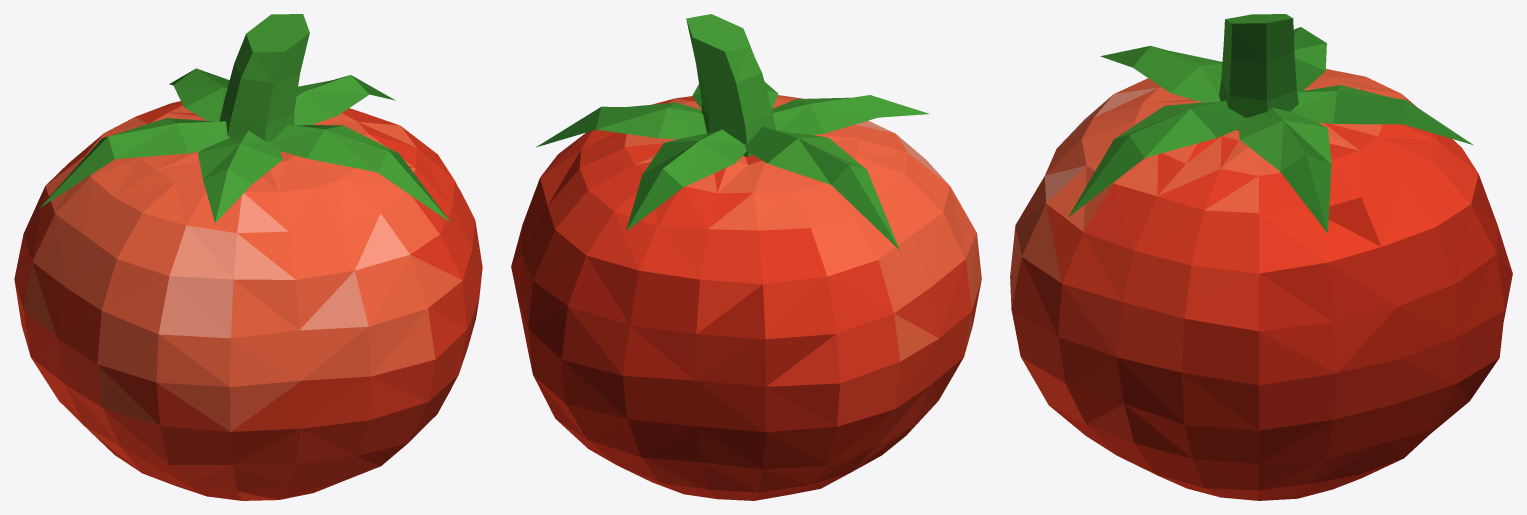
File: FMS_Veg_Tomato_Whole.fbx
3 renders of one model, left to right at view 1: azimuth 30°, elevation 25°; view 2: azimuth 150°, elevation 25°; view 3: azimuth 270°, elevation 25°, orthographic. The views are drawn at different scales.
Visible parts, largest first — view 1: Tomato_Whole; view 2: Tomato_Whole; view 3: Tomato_Whole.
Part boxes in pixels (bbox=[...]): Tomato_Whole: bbox=[14, 14, 482, 500]; Tomato_Whole: bbox=[511, 14, 981, 500]; Tomato_Whole: bbox=[1010, 14, 1512, 500].
Size of the model in its own units: 0.0787 by 0.0818 by 0.0782.
